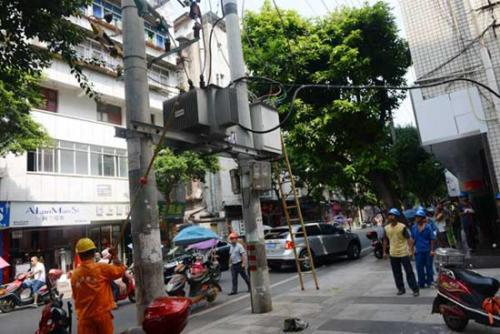helmet: (73, 235, 98, 266), (386, 205, 402, 224), (413, 208, 428, 225)
